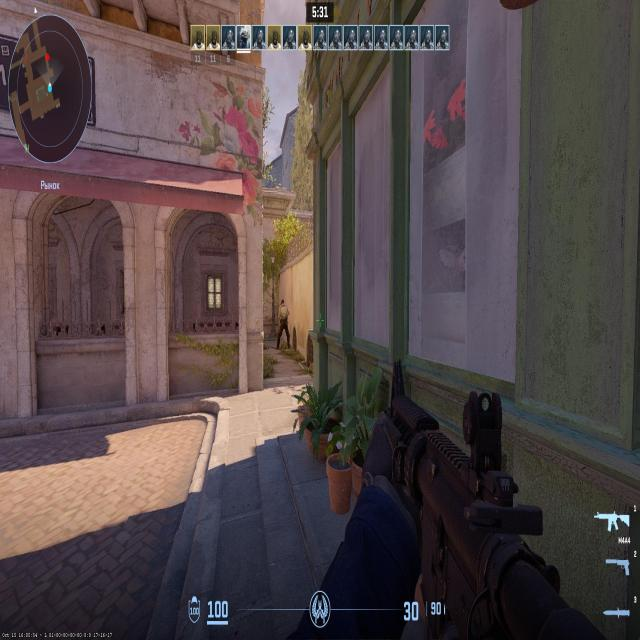T: (278, 303, 288, 348)
T_heat: (281, 302, 285, 306)
